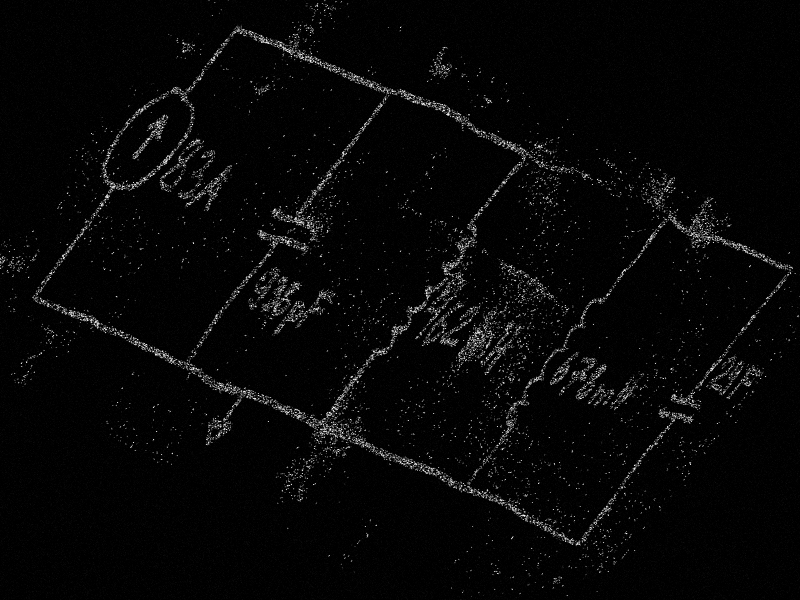2: (436, 300, 486, 353), (702, 351, 741, 393)
3: (169, 146, 224, 204), (254, 271, 296, 317)
4: (404, 282, 459, 343)
6: (415, 293, 469, 353), (543, 347, 583, 391)
7: (551, 351, 601, 403)
8: (151, 133, 211, 197), (266, 276, 309, 322), (570, 359, 612, 405)
9: (235, 261, 287, 315), (713, 358, 750, 398)
A: (184, 155, 245, 217)
F: (290, 286, 338, 336), (722, 361, 766, 407)
H: (471, 320, 526, 378), (603, 371, 645, 415)
m: (453, 322, 500, 366), (581, 380, 619, 415)
p: (266, 297, 310, 344)
